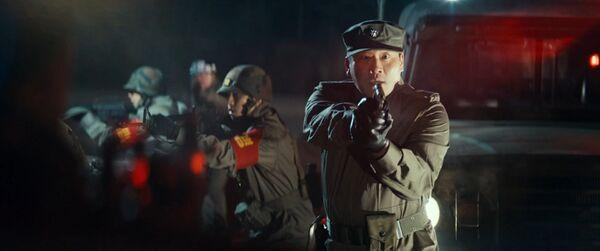Gun: (372, 83, 386, 112)
